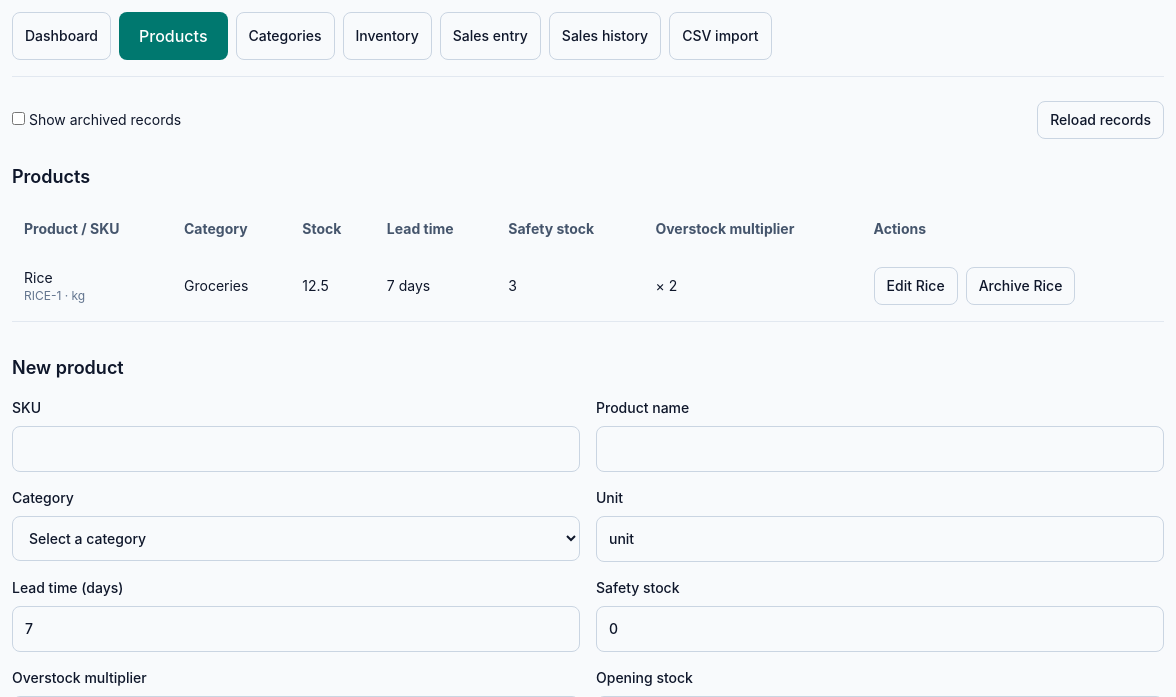
Test case: archive hides product and show-archived exposes edit for restoration
Click the button "Archive Rice" at (1020, 286), box [966,267,1075,305]
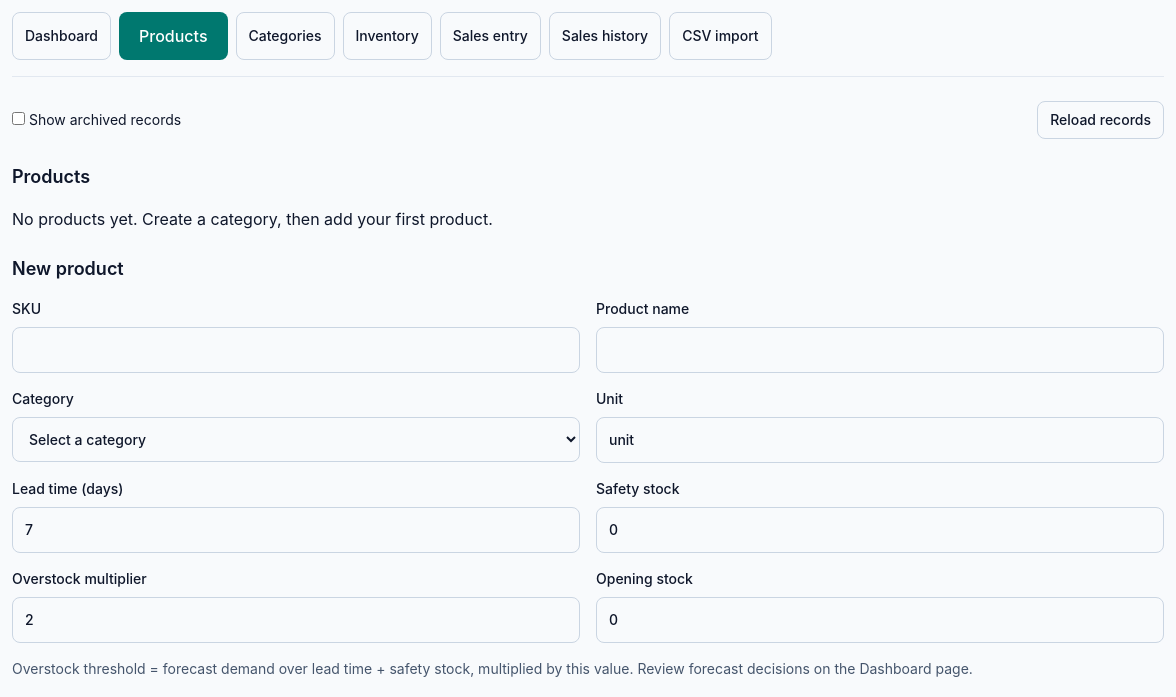
Expected: the button "Edit Rice" is gone
Click the checkbox labelled "Show archived records" at (18, 118), box [12,112,25,125]
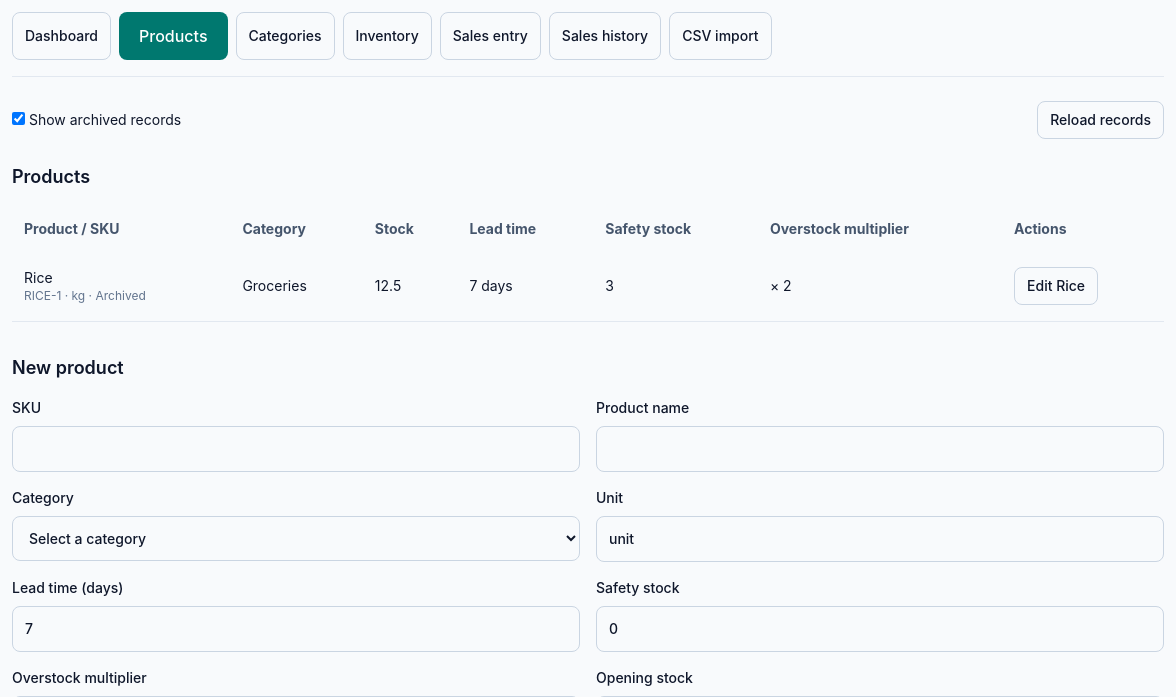
Expected: the button "Edit Rice" is shown, [1014,267,1098,305]
